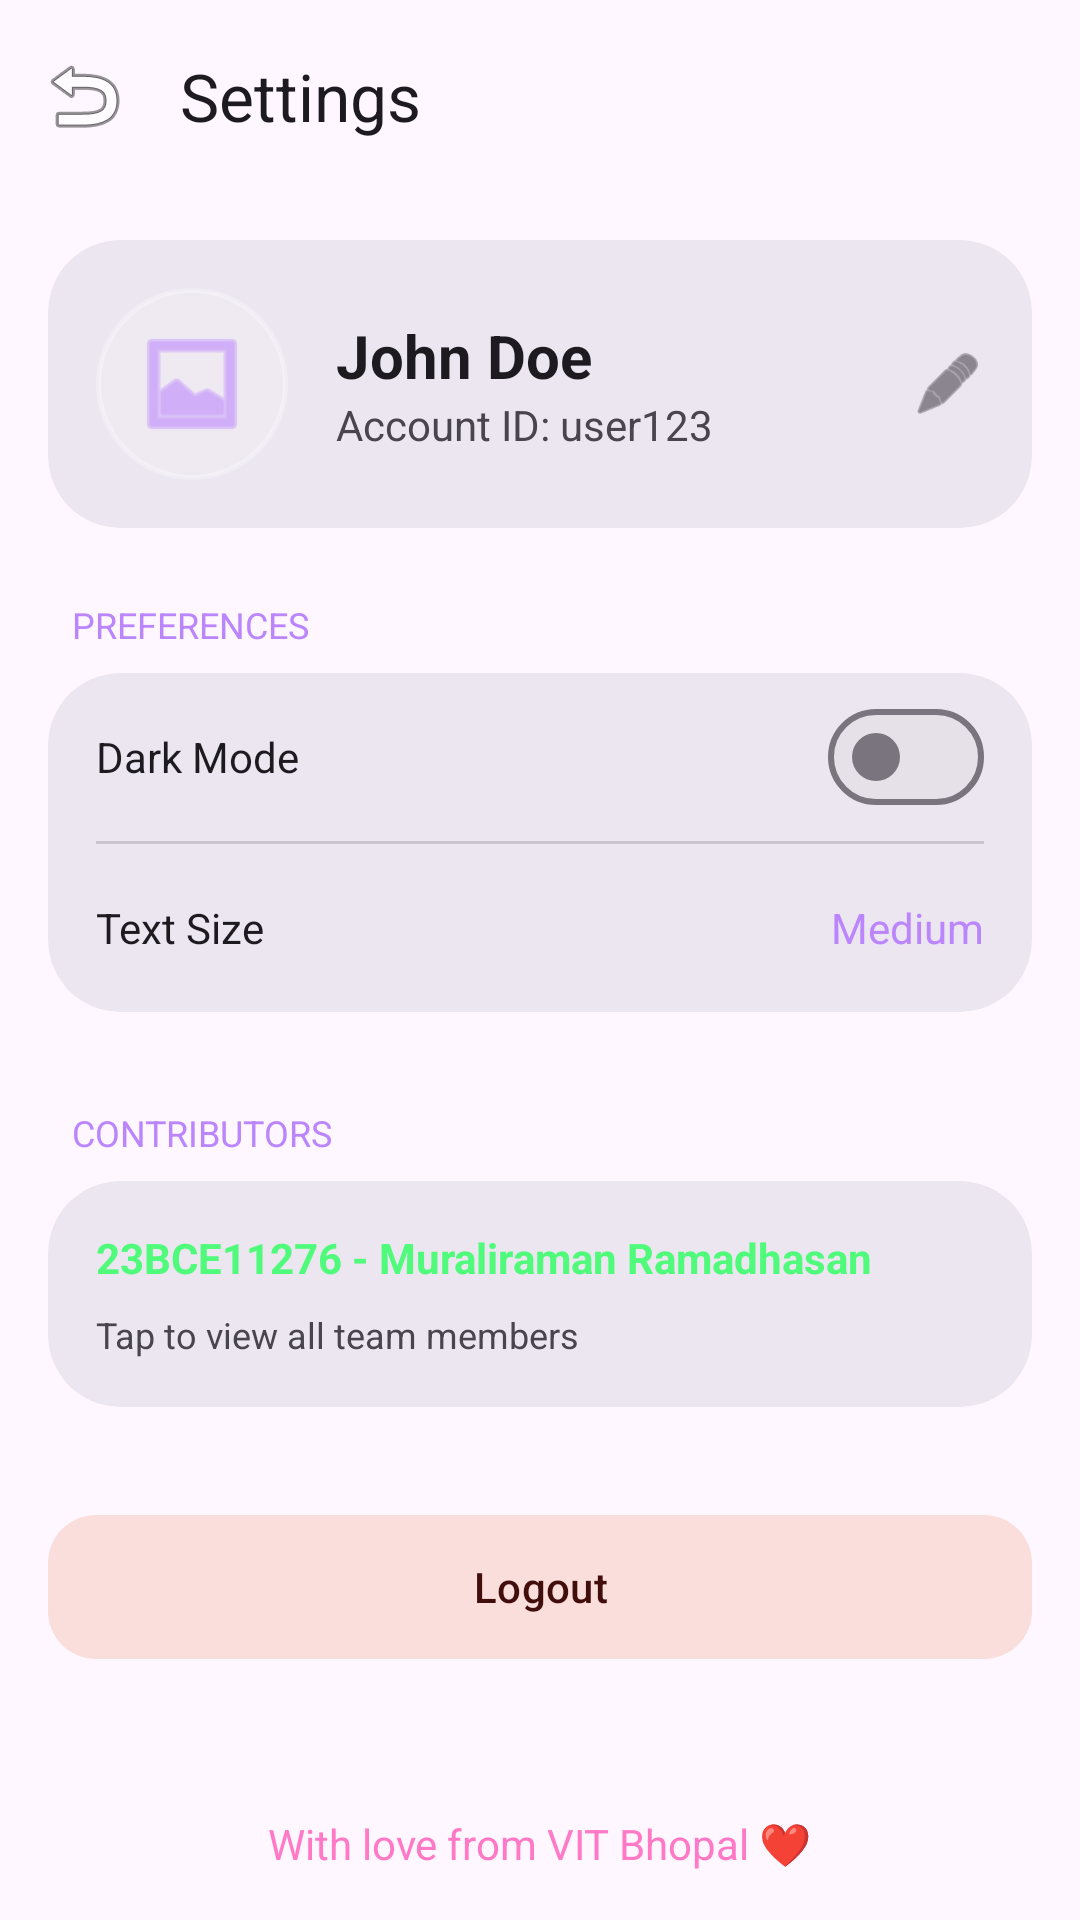

Where to tap for icons on this 1080×1920 app screen, as [x,y]:
edit: [947,383]
gallery: [192,384]
